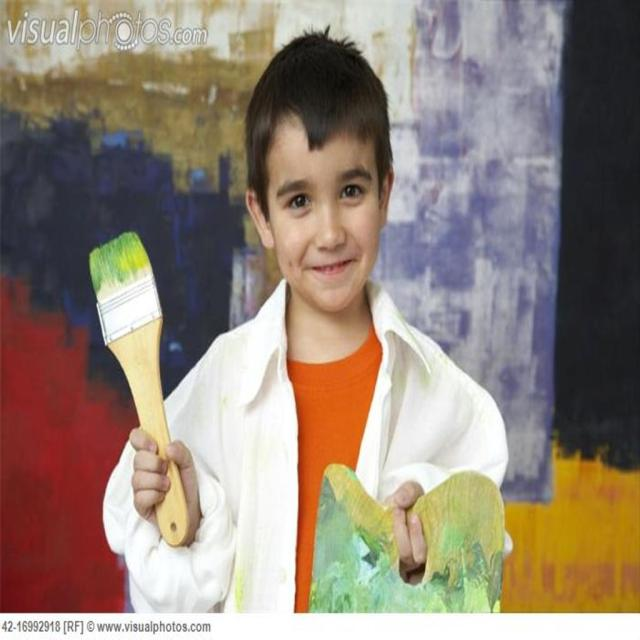Face: (257, 91, 390, 312)
